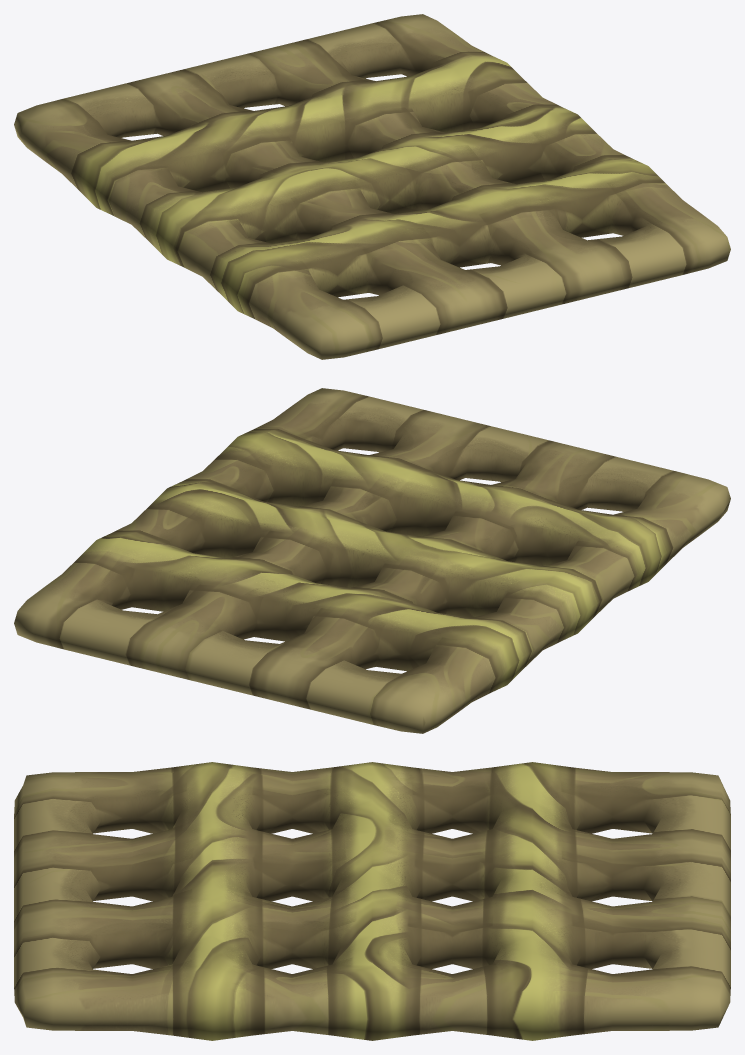
The model's file is catwalk.fbx.
The picture shows the model from 3 angles, top to bottom: view 1: azimuth 30°, elevation 25°; view 2: azimuth 150°, elevation 25°; view 3: azimuth 270°, elevation 25°; orthographic projection. The views are drawn at different scales.
Visible parts, largest first — view 1: catwalk; view 2: catwalk; view 3: catwalk.
Boxes of the visible parts, x1=… form: catwalk: x1=14, y1=14, x2=730, y2=359; catwalk: x1=14, y1=388, x2=730, y2=733; catwalk: x1=14, y1=762, x2=730, y2=1040.
Bounding box in the file's own units: 174 × 224 × 24.
